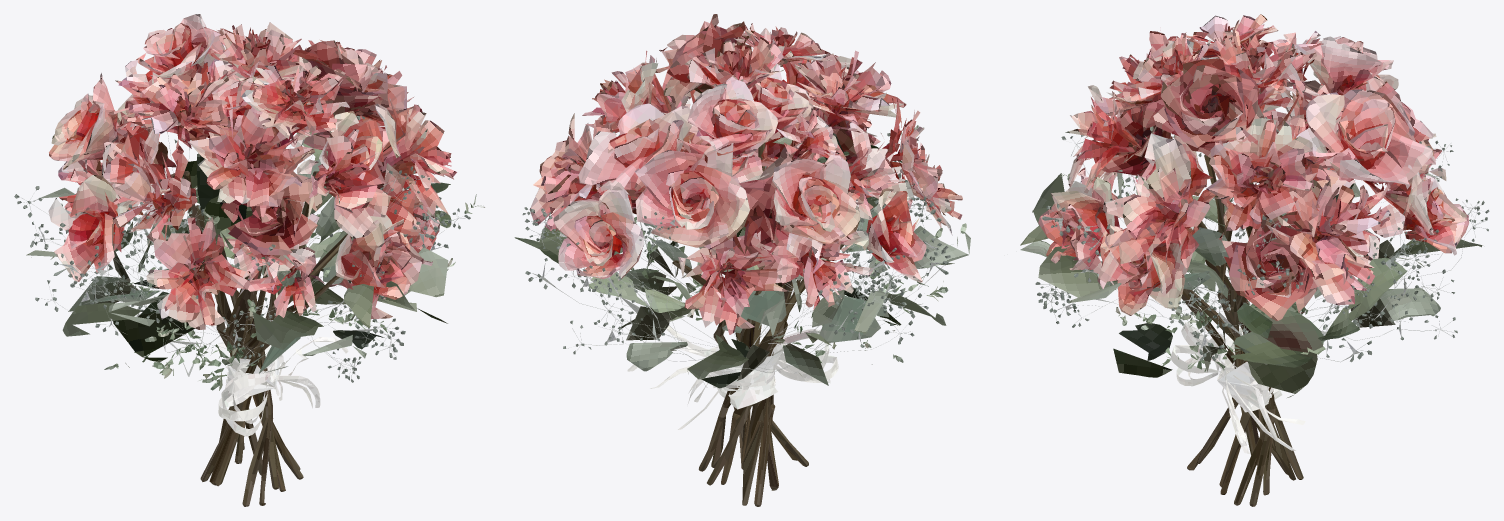
File: flower-draco-transformed.glb
The picture shows the model from 3 angles, left to right: view 1: azimuth 30°, elevation 25°; view 2: azimuth 150°, elevation 25°; view 3: azimuth 270°, elevation 25°; orthographic projection. The views are drawn at different scales.
Visible parts, largest first — view 1: Petal_002_Petals2_0, Leaves_001_Leaves1_0, SmallPlants_001_SmallPlants3_0, Stems_Stems_0, Ribbons_001_Ribbons1_0; view 2: Petal_002_Petals2_0, Leaves_001_Leaves1_0, SmallPlants_001_SmallPlants3_0, Stems_Stems_0, Ribbons_001_Ribbons1_0; view 3: Petal_002_Petals2_0, Leaves_001_Leaves1_0, SmallPlants_001_SmallPlants3_0, Stems_Stems_0, Ribbons_001_Ribbons1_0.
Boxes of the visible parts, x1,y1,x2,y2 form: Petal_002_Petals2_0: (48,14,456,329); Leaves_001_Leaves1_0: (26,131,451,390); SmallPlants_001_SmallPlants3_0: (14,116,484,390); Stems_Stems_0: (166,171,352,506); Ribbons_001_Ribbons1_0: (216,310,350,436); Petal_002_Petals2_0: (529,14,962,334); Leaves_001_Leaves1_0: (514,133,970,388); SmallPlants_001_SmallPlants3_0: (522,125,966,373); Stems_Stems_0: (672,142,844,506); Ribbons_001_Ribbons1_0: (627,325,838,429); Petal_002_Petals2_0: (1038,14,1469,320); Leaves_001_Leaves1_0: (1020,169,1482,397); SmallPlants_001_SmallPlants3_0: (1035,91,1489,371); Stems_Stems_0: (1181,154,1303,506); Ribbons_001_Ribbons1_0: (1170,322,1305,453).
Size of the model in its own units: 53.73 by 57.71 by 56.52.
Materials: 20 (20 with a texture image).
